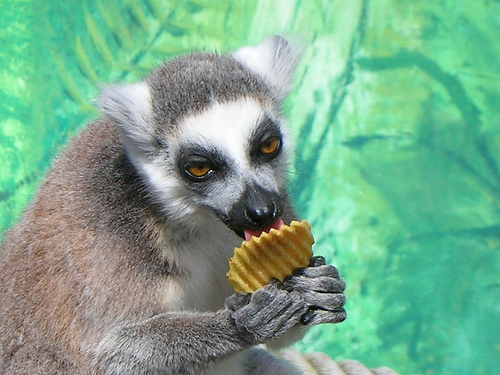cat: (0, 33, 349, 374)
